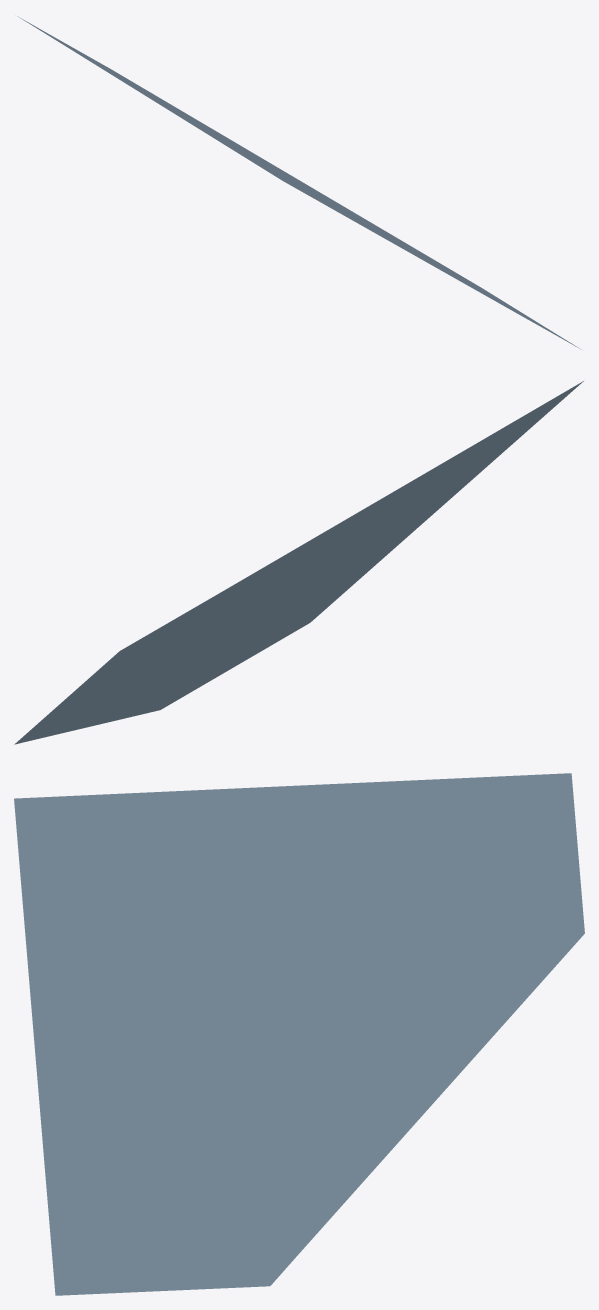
3 renders of one model, top to bottom at view 1: azimuth 30°, elevation 25°; view 2: azimuth 150°, elevation 25°; view 3: azimuth 270°, elevation 25°, orthographic. The views are drawn at different scales.
Bounding box in the file's own units: 436 × 312 × 510.
